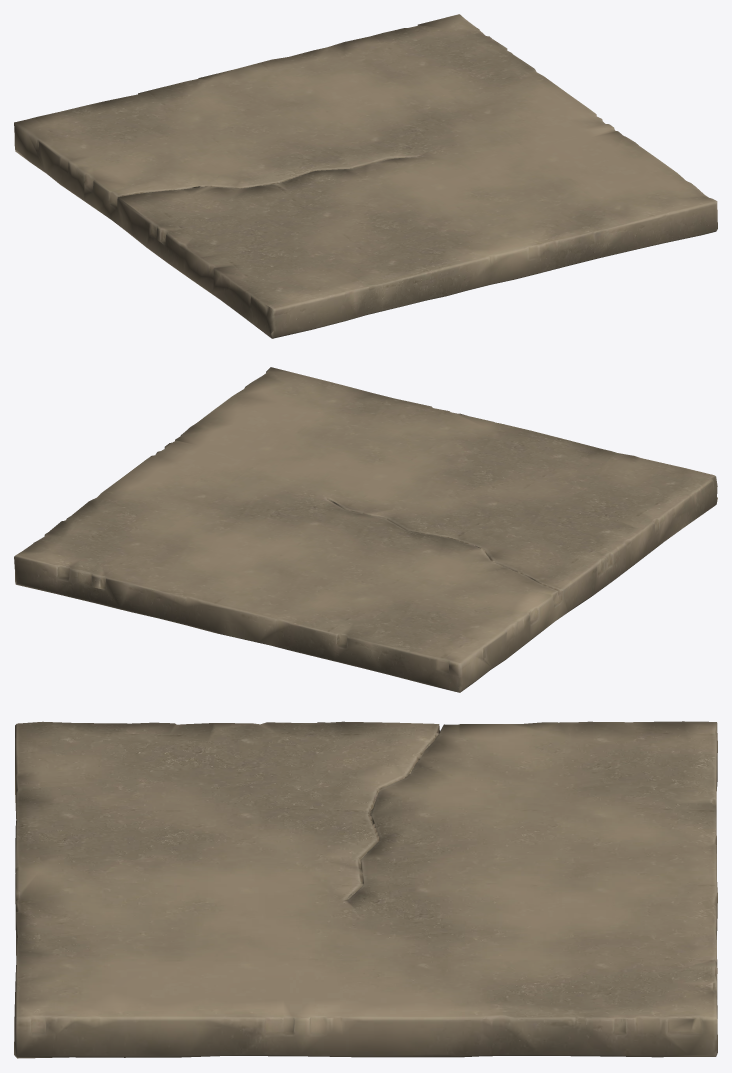
The model's file is slab2-cantera.glb.
The picture shows the model from 3 angles, top to bottom: view 1: azimuth 30°, elevation 25°; view 2: azimuth 150°, elevation 25°; view 3: azimuth 270°, elevation 25°; orthographic projection. The views are drawn at different scales.
Parts seen in each view (by area): view 1: slab2; view 2: slab2; view 3: slab2.
Part boxes in pixels (x1,y1,x2,y2): slab2: (14, 14, 717, 338); slab2: (14, 367, 717, 692); slab2: (14, 721, 717, 1058).
Bounding box in the file's own units: 0.9903 × 0.0649 × 0.9899.
Materials: 1 (1 with a texture image).
